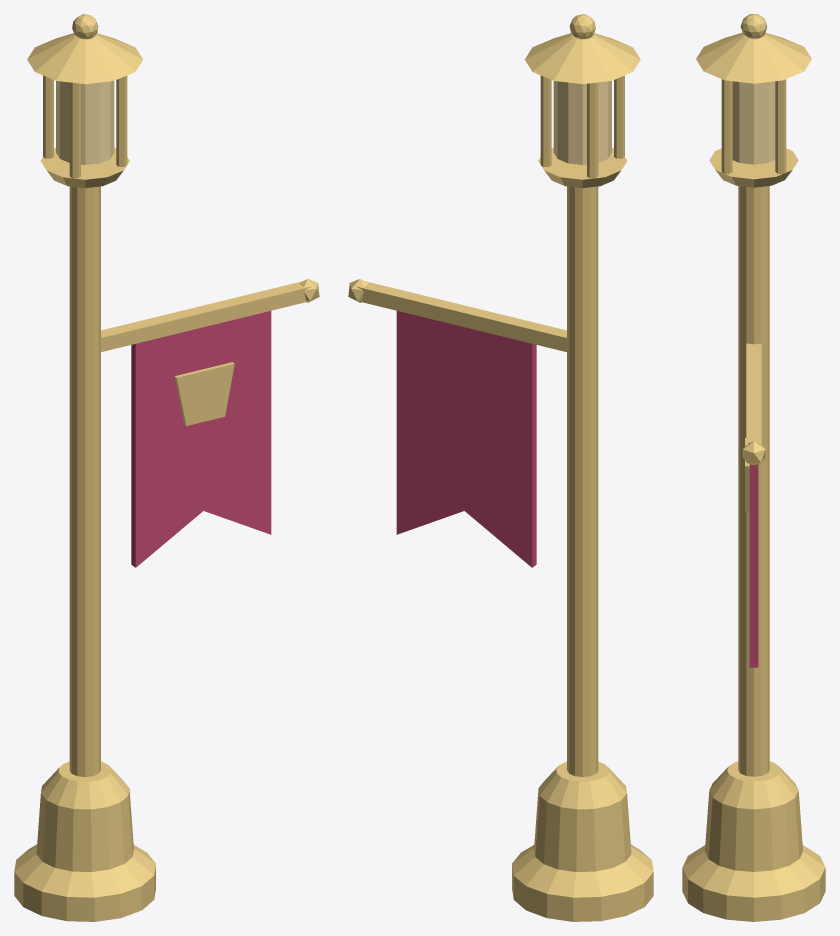
The model's file is HOB_BannerLamp.fbx.
3 views of the same model, side by side, from view 1: azimuth 30°, elevation 25°; view 2: azimuth 150°, elevation 25°; view 3: azimuth 270°, elevation 25° (orthographic).
Parts seen in each view (by area): view 1: HOB_BannerLamp; view 2: HOB_BannerLamp; view 3: HOB_BannerLamp.
Boxes of the visible parts, x1,y1,x2,y2 form: HOB_BannerLamp: (14, 14, 319, 921); HOB_BannerLamp: (348, 14, 653, 921); HOB_BannerLamp: (682, 14, 825, 921).
Size of the model in its own units: 152 by 433 by 64.
